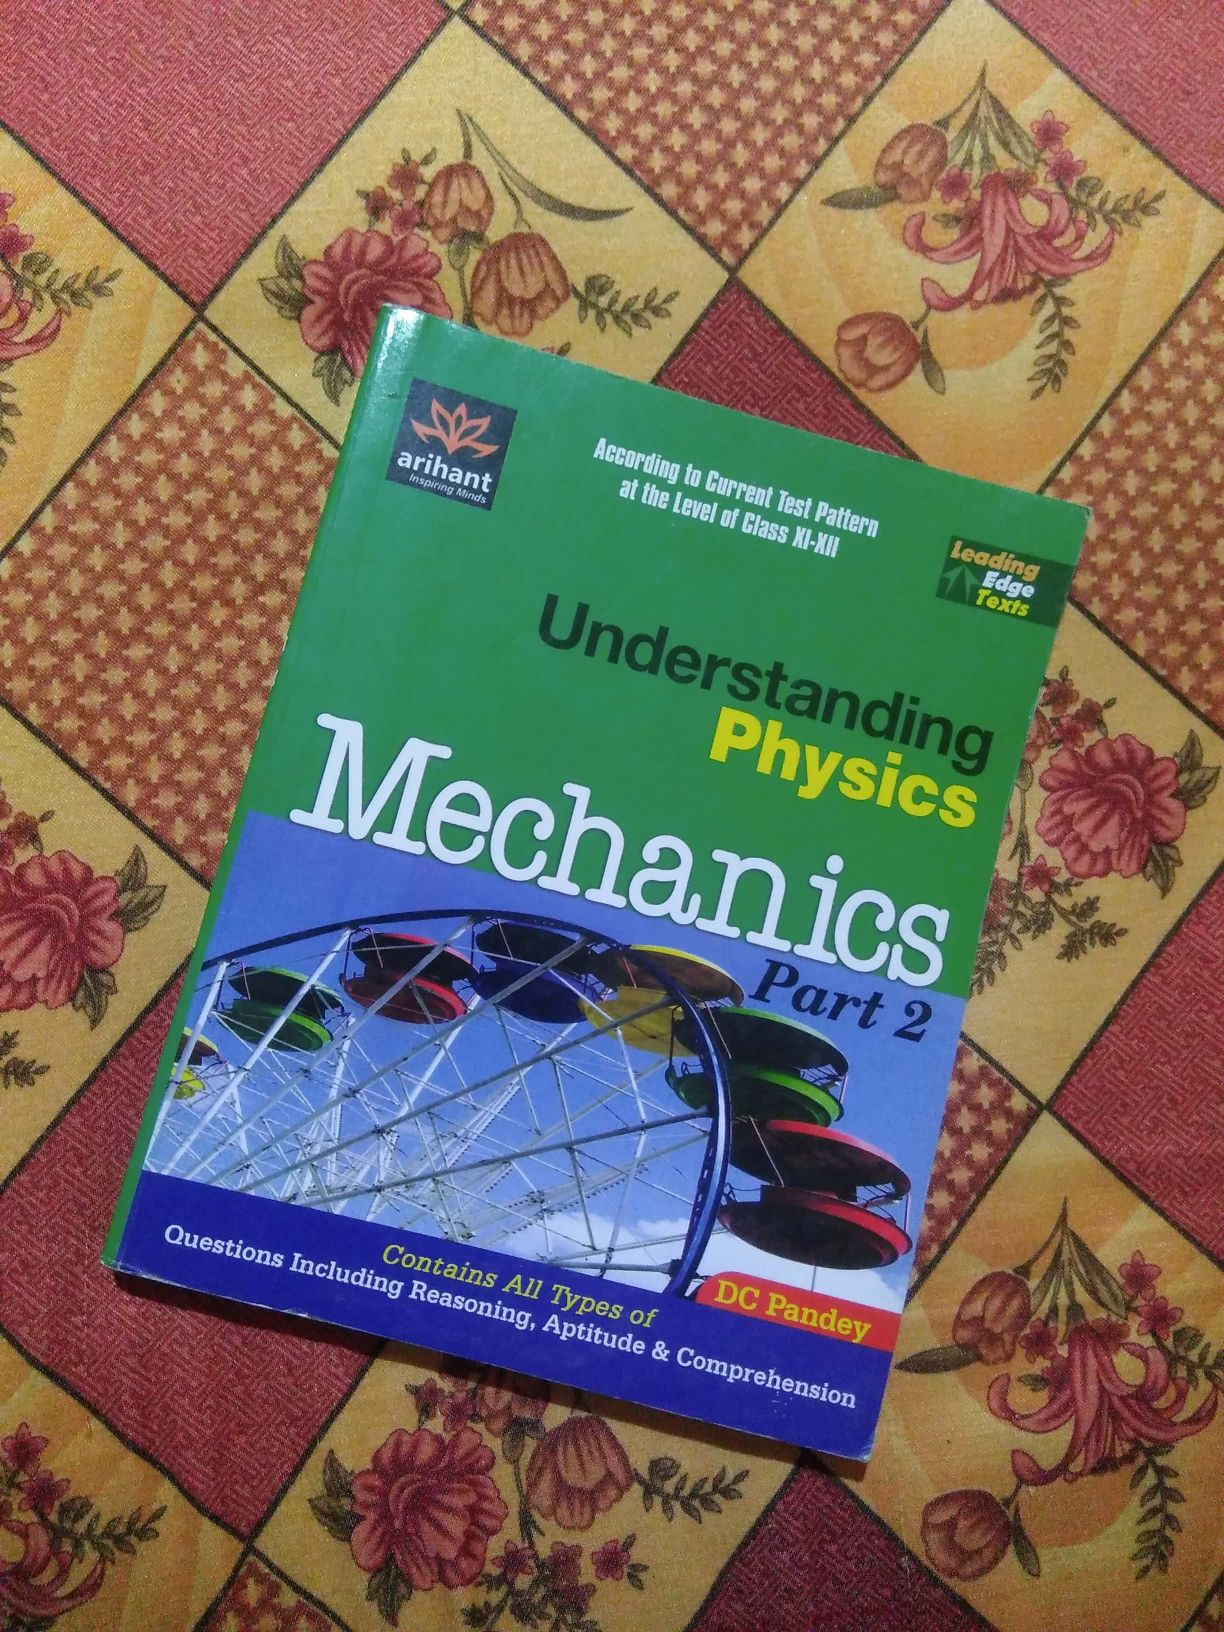mechanics: (234, 272, 1020, 1505)
